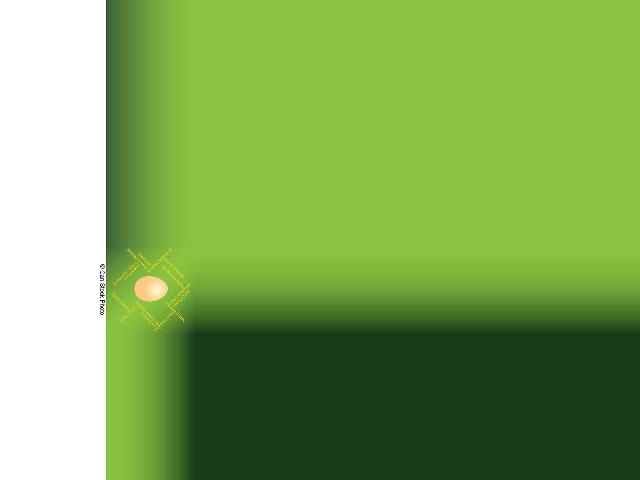egg: (134, 276, 168, 301)
